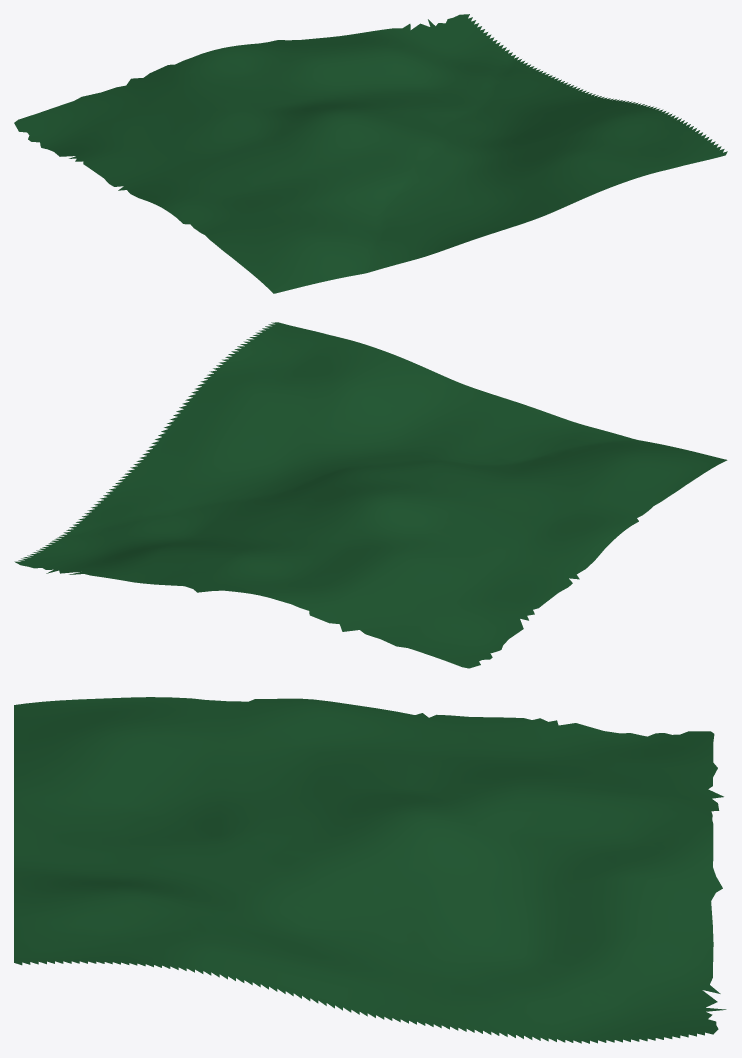
The model's file is payo_land_x2_ym3.glb.
3 views of the same model, one above another, from view 1: azimuth 30°, elevation 25°; view 2: azimuth 150°, elevation 25°; view 3: azimuth 270°, elevation 25° (orthographic). The views are drawn at different scales.
Visible parts, largest first — view 1: payo_land_x2_ym3; view 2: payo_land_x2_ym3; view 3: payo_land_x2_ym3.
Boxes of the visible parts, x1,y1,x2,y2 form: payo_land_x2_ym3: (14,14,727,293); payo_land_x2_ym3: (14,322,727,668); payo_land_x2_ym3: (14,697,726,1043).
Bounding box in the file's own units: 260 × 32.49 × 260.
